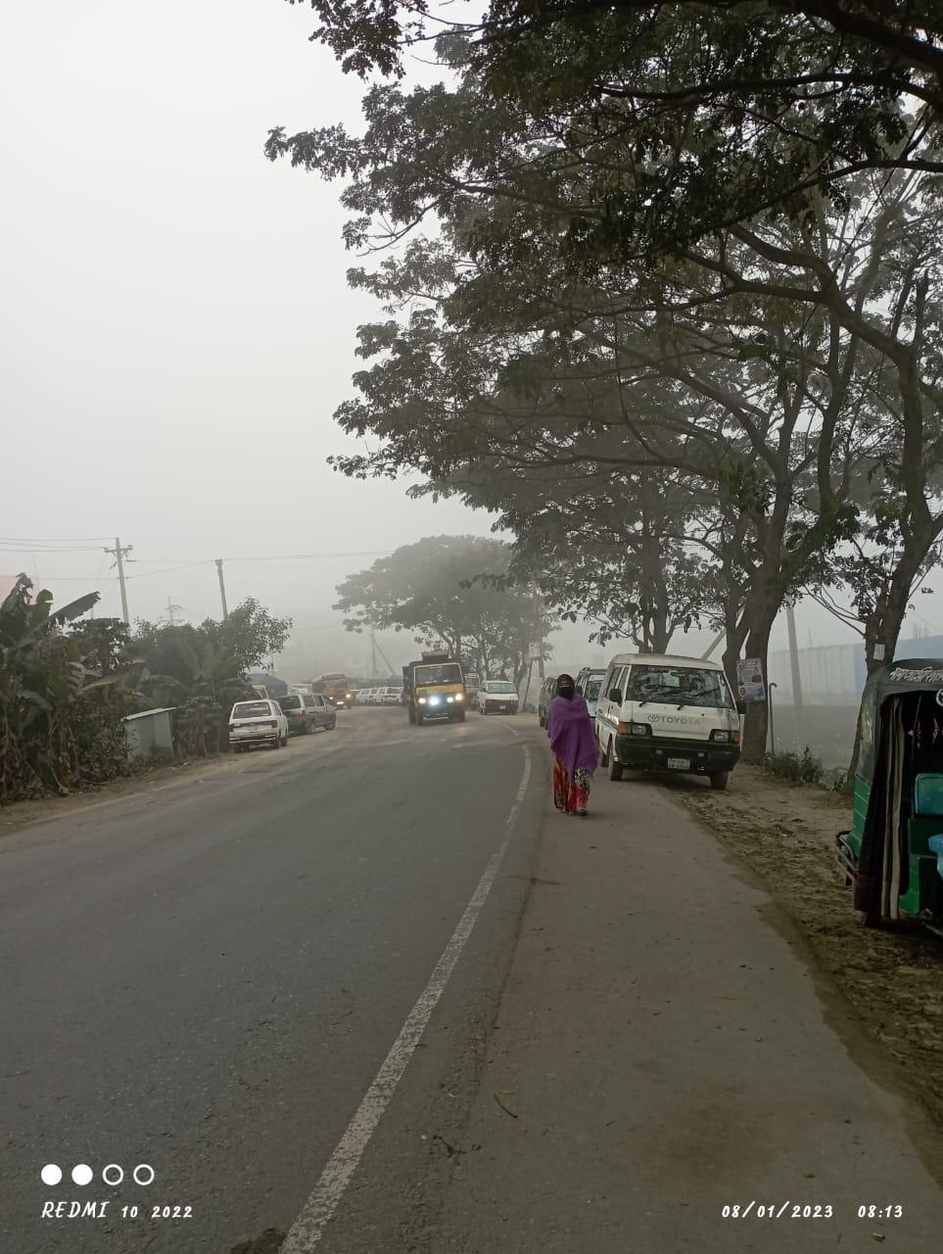Car: (597, 648, 752, 793), (213, 691, 295, 744), (468, 673, 526, 718)
Truck: (393, 644, 472, 722)
